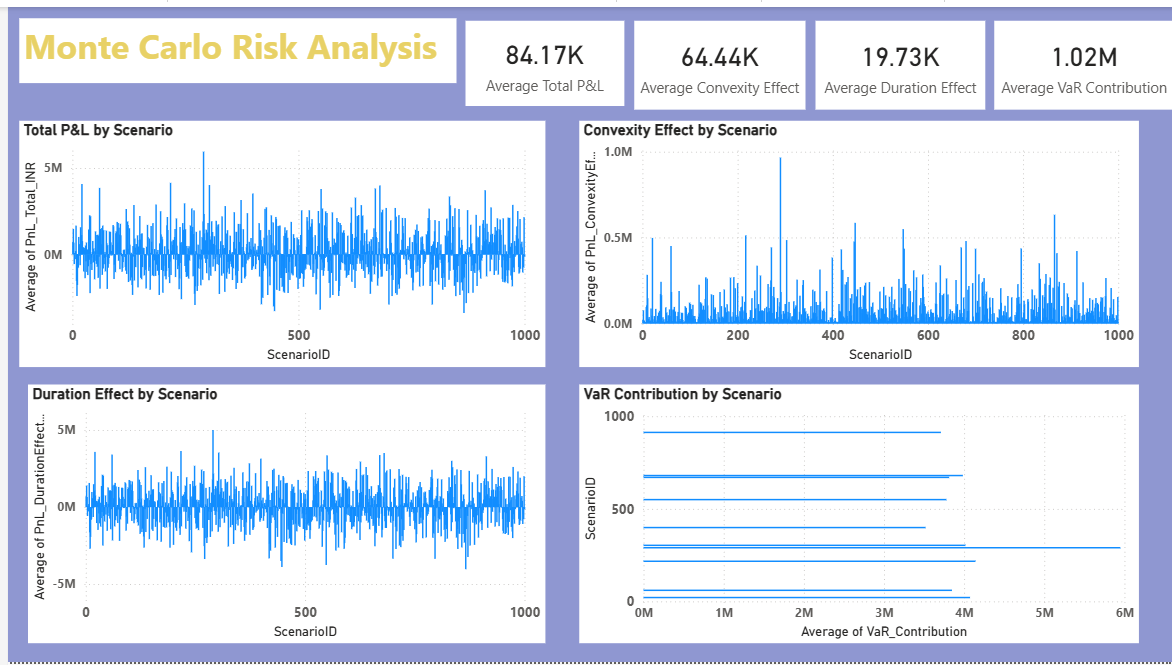

This screenshot's page, from the dashboard's own definition file:
{"tool":"powerbi","page":{"name":"Monte Carlo Risk Analysis","canvas":[1280,720],"ordinal":2},"visuals":[{"type":"textbox","box":[12.3,12.3,480.3,71.4],"z":0},{"type":"card","fields":{"Values":["monte_carlo_scenarios.Average Duration Effect"]},"box":[886.5,15.1,186.6,97.4],"z":1},{"type":"card","fields":{"Values":["monte_carlo_scenarios.Average VaR Contribution"]},"box":[1082.7,15.1,197.6,97.4],"z":2},{"type":"card","fields":{"Values":["monte_carlo_scenarios.Average Convexity Effect"]},"box":[687.5,15.1,188,97.4],"z":3},{"type":"card","fields":{"Values":["monte_carlo_scenarios.Average Total P&L"]},"box":[502.2,15.1,174.3,93.3],"z":4},{"type":"clusteredColumnChart","title":"Total P&L by Scenario","fields":{"Category":["monte_carlo_scenarios.ScenarioID"],"Y":["Avg(monte_carlo_scenarios.PnL_Total_INR)"]},"box":[12.3,124.9,577.7,270.3],"z":5},{"type":"clusteredColumnChart","title":"Duration Effect by Scenario","fields":{"Category":["monte_carlo_scenarios.ScenarioID"],"Y":["Avg(monte_carlo_scenarios.PnL_DurationEffect_INR)"]},"box":[22,414.4,568.1,284],"z":6},{"type":"clusteredColumnChart","title":"Convexity Effect by Scenario","fields":{"Category":["monte_carlo_scenarios.ScenarioID"],"Y":["Avg(monte_carlo_scenarios.PnL_ConvexityEffect_INR)"]},"box":[627.1,124.9,614.8,270.3],"z":7},{"type":"clusteredBarChart","title":"VaR Contribution by Scenario","fields":{"Category":["monte_carlo_scenarios.ScenarioID"],"Y":["Avg(monte_carlo_scenarios.VaR_Contribution)"]},"box":[627.1,414.4,614.8,284],"z":8}]}

Visuals, with their boxes in screenshot pixels (x1, y1, x2, y2), scaled from the page's 1280x720 canvas onto the 1172x665 screenshot:
textbox: [x1=11, y1=11, x2=451, y2=77]
card - monte_carlo_scenarios.Average Duration Effect: [x1=812, y1=14, x2=983, y2=104]
card - monte_carlo_scenarios.Average VaR Contribution: [x1=991, y1=14, x2=1171, y2=104]
card - monte_carlo_scenarios.Average Convexity Effect: [x1=629, y1=14, x2=802, y2=104]
card - monte_carlo_scenarios.Average Total P&L: [x1=460, y1=14, x2=619, y2=100]
"Total P&L by Scenario" clusteredColumnChart: [x1=11, y1=115, x2=540, y2=365]
"Duration Effect by Scenario" clusteredColumnChart: [x1=20, y1=383, x2=540, y2=645]
"Convexity Effect by Scenario" clusteredColumnChart: [x1=574, y1=115, x2=1137, y2=365]
"VaR Contribution by Scenario" clusteredBarChart: [x1=574, y1=383, x2=1137, y2=645]
